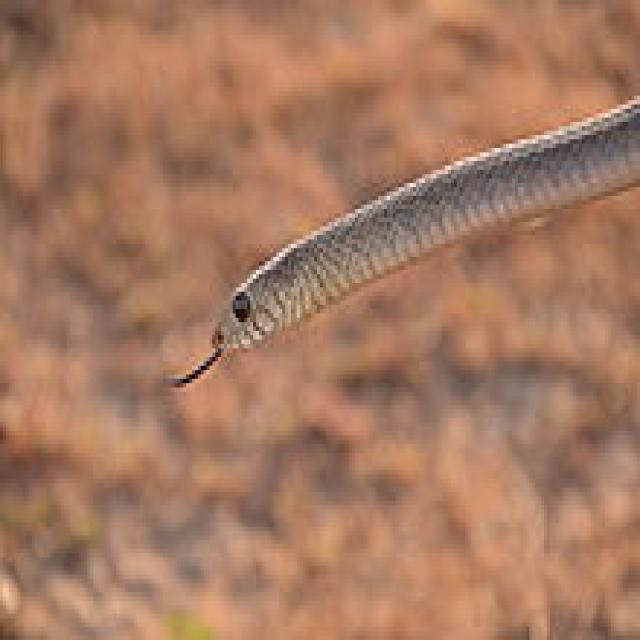Snake: (163, 70, 637, 388)
